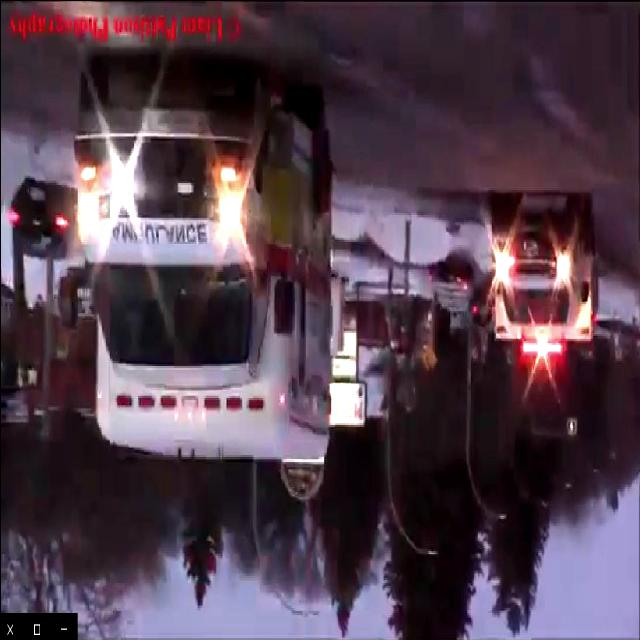emergency: (51, 46, 336, 467), (478, 180, 606, 365)
